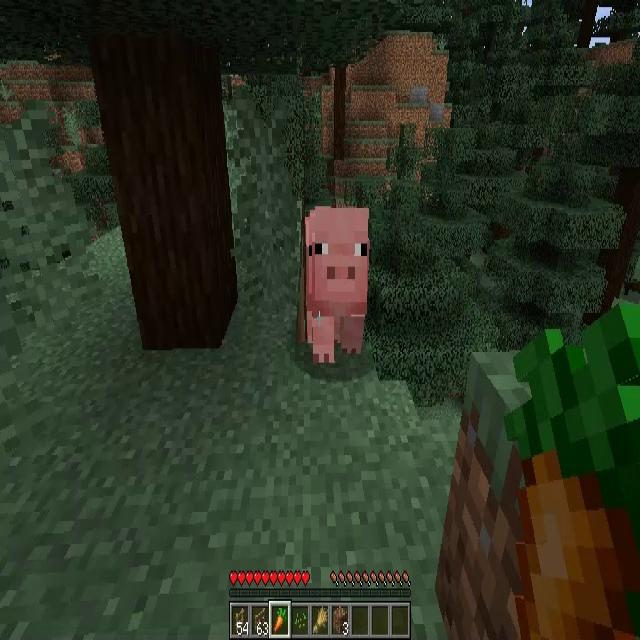pig: (306, 207, 369, 367)
